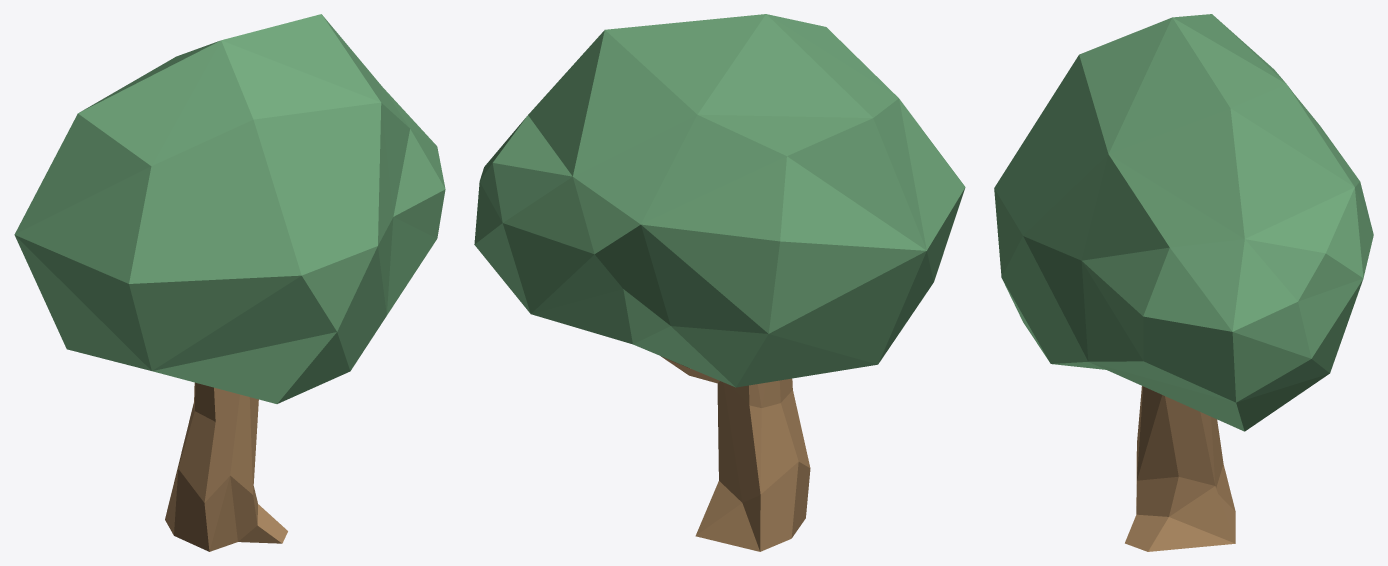
Rendered from tree.fbx.
3 views of the same model, side by side, from view 1: azimuth 30°, elevation 25°; view 2: azimuth 150°, elevation 25°; view 3: azimuth 270°, elevation 25° (orthographic). The views are drawn at different scales.
Parts seen in each view (by area): view 1: polySurface31; view 2: polySurface31; view 3: polySurface31.
Part boxes in pixels (x1,y1,x2,y2): polySurface31: [14, 14, 445, 551]; polySurface31: [474, 14, 965, 551]; polySurface31: [994, 14, 1373, 551].
Bounding box in the file's own units: 278 × 309 × 209.
